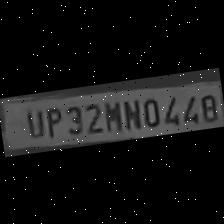0: (136, 93, 162, 129)
2: (80, 99, 104, 135)
3: (61, 100, 84, 136)
4: (158, 92, 182, 126), (177, 90, 199, 124)
8: (196, 88, 218, 122)
M: (100, 96, 122, 134)
N: (119, 96, 142, 132)
P: (41, 103, 64, 138)
U: (20, 104, 45, 140)
